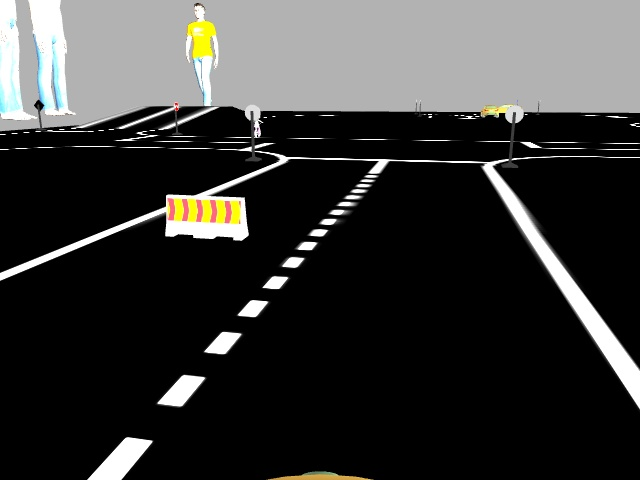ClosedRoadStand: (166, 195, 246, 239)
